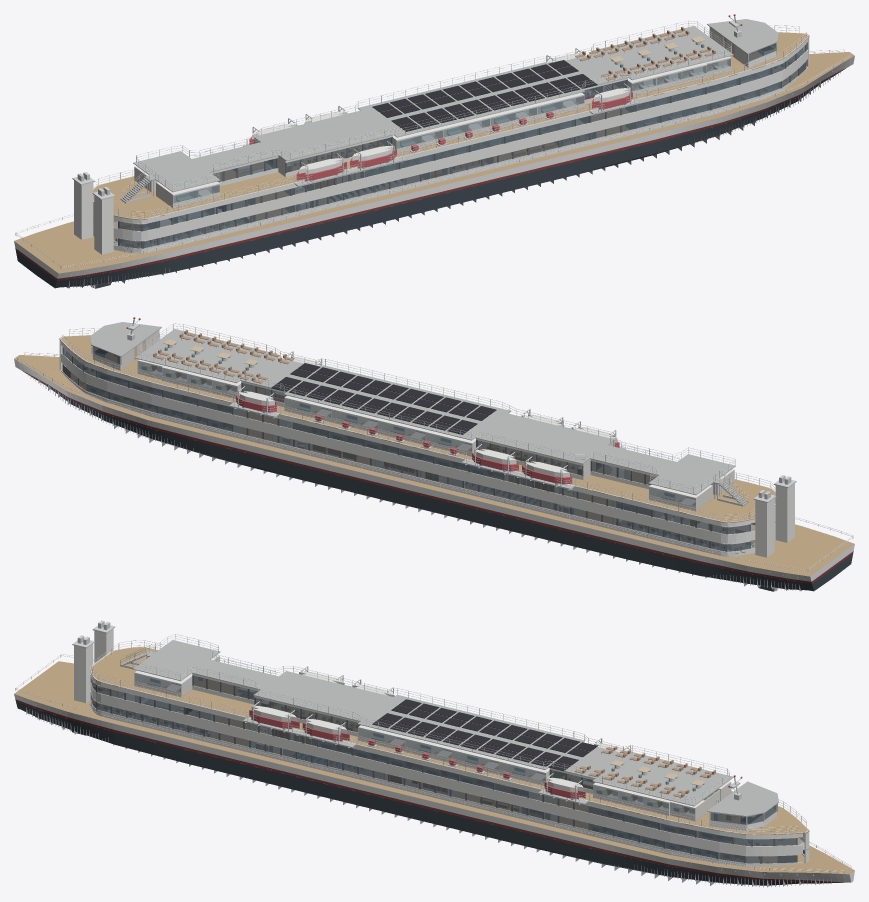
Rendered from gorizont.glb.
3 views of the same model, one above another, from view 1: azimuth 30°, elevation 25°; view 2: azimuth 150°, elevation 25°; view 3: azimuth 330°, elevation 25° (orthographic).
Visible parts, largest first — view 1: корпус, крыша_четвёртого_яруса, настил_солнечной_палубы, остекление_верхняя, остекление_главная, леер_крыши, надстройка_цоколь_верхняя, надстройка_цоколь_главная, надстройка_карниз_главная, надстройка_карниз_верхняя, шезлонги_крыши, леер_главной_л (+20 smaller); view 2: корпус, крыша_четвёртого_яруса, настил_солнечной_палубы, остекление_верхняя, остекление_главная, леер_крыши, надстройка_цоколь_верхняя, надстройка_цоколь_главная, надстройка_карниз_главная, надстройка_карниз_верхняя, шезлонги_крыши, леер_главной_п (+20 smaller); view 3: корпус, крыша_четвёртого_яруса, настил_солнечной_палубы, остекление_верхняя, остекление_главная, леер_крыши, надстройка_цоколь_верхняя, надстройка_карниз_главная, надстройка_цоколь_главная, надстройка_карниз_верхняя, шезлонги_крыши, леер_главной_л (+20 smaller).
Boxes of the visible parts, x1=… form: корпус: x1=14, y1=52, x2=854, y2=288; крыша_четвёртого_яруса: x1=133, y1=26, x2=733, y2=192; настил_солнечной_палубы: x1=93, y1=32, x2=809, y2=219; остекление_верхняя: x1=119, y1=45, x2=805, y2=230; остекление_главная: x1=119, y1=69, x2=797, y2=248; леер_крыши: x1=136, y1=20, x2=731, y2=191; надстройка_цоколь_верхняя: x1=113, y1=48, x2=807, y2=236; надстройка_цоколь_главная: x1=113, y1=67, x2=807, y2=253; надстройка_карниз_главная: x1=113, y1=55, x2=807, y2=240; надстройка_карниз_верхняя: x1=93, y1=32, x2=807, y2=223; шезлонги_крыши: x1=575, y1=27, x2=715, y2=81; леер_главной_л: x1=61, y1=55, x2=851, y2=268; корпус: x1=14, y1=355, x2=854, y2=591; крыша_четвёртого_яруса: x1=135, y1=329, x2=735, y2=495; настил_солнечной_палубы: x1=59, y1=335, x2=775, y2=522; остекление_верхняя: x1=63, y1=348, x2=749, y2=533; остекление_главная: x1=71, y1=372, x2=749, y2=551; леер_крыши: x1=139, y1=323, x2=735, y2=493; надстройка_цоколь_верхняя: x1=61, y1=351, x2=755, y2=539; надстройка_цоколь_главная: x1=61, y1=370, x2=755, y2=556; надстройка_карниз_главная: x1=61, y1=358, x2=755, y2=543; надстройка_карниз_верхняя: x1=61, y1=335, x2=775, y2=526; шезлонги_крыши: x1=153, y1=330, x2=293, y2=384; леер_главной_п: x1=17, y1=358, x2=807, y2=571; корпус: x1=14, y1=661, x2=854, y2=885; крыша_четвёртого_яруса: x1=133, y1=640, x2=733, y2=806; настил_солнечной_палубы: x1=90, y1=646, x2=809, y2=834; остекление_верхняя: x1=91, y1=677, x2=804, y2=845; остекление_главная: x1=91, y1=694, x2=777, y2=863; леер_крыши: x1=133, y1=634, x2=729, y2=803; надстройка_цоколь_верхняя: x1=90, y1=683, x2=804, y2=851; надстройка_карниз_главная: x1=90, y1=686, x2=802, y2=855; надстройка_цоколь_главная: x1=90, y1=700, x2=804, y2=866; надстройка_карниз_верхняя: x1=90, y1=646, x2=807, y2=838; шезлонги_крыши: x1=575, y1=746, x2=715, y2=798; леер_главной_л: x1=15, y1=688, x2=844, y2=873.
Size of the model in its own units: 139 by 17.4 by 16.5.
